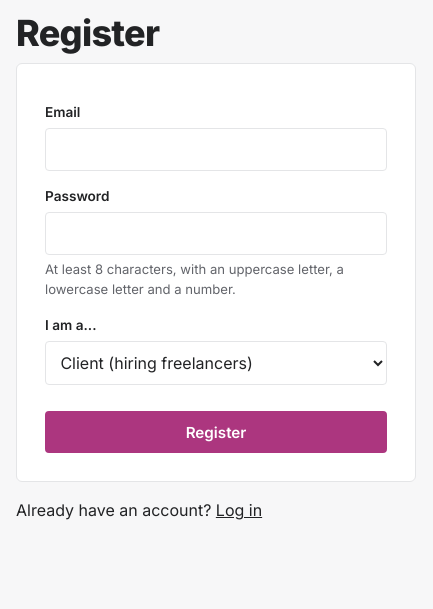
Test case: RegisterPage › shows a clear error message when the email is already registered
Type "taken@test.com" into the field labelled "Email".
click(216, 149); type("taken@test.com")  # box [45,128,387,171]
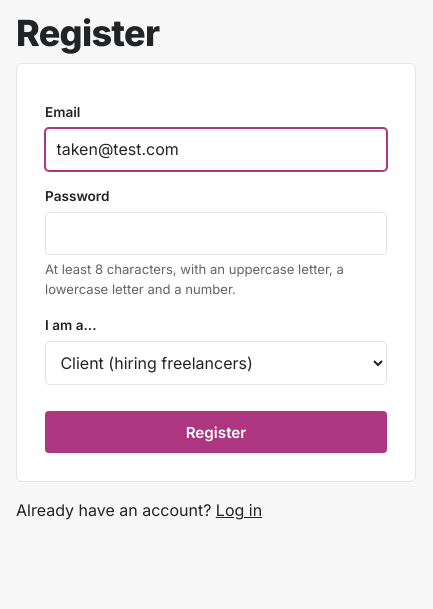
Type "Test1234" into the password field labelled "Password".
click(216, 233); type("Test1234")  # box [45,212,387,254]
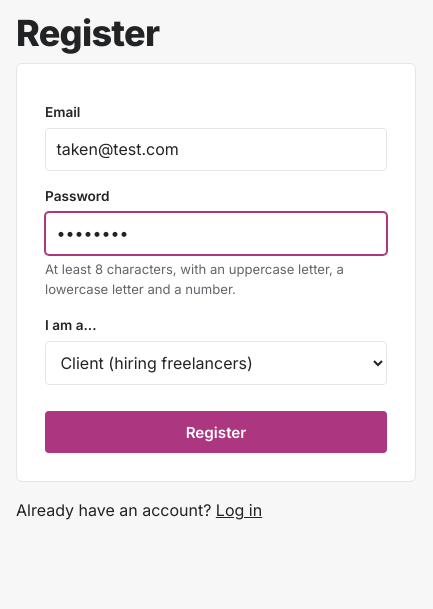
Click the button "Register".
click(216, 432)  # box [45,411,387,453]
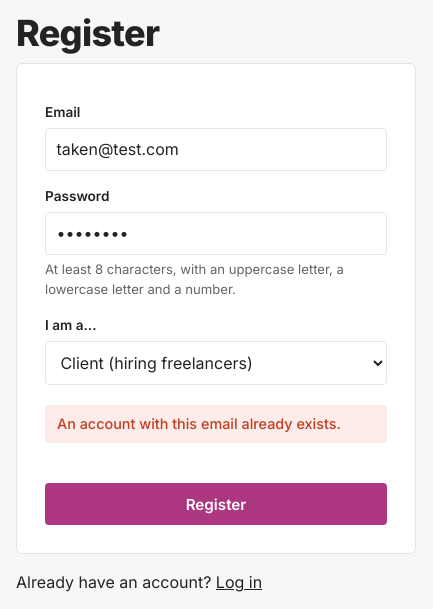
Now the message reads "An account with this email already exists.", box [57,415,341,432]
